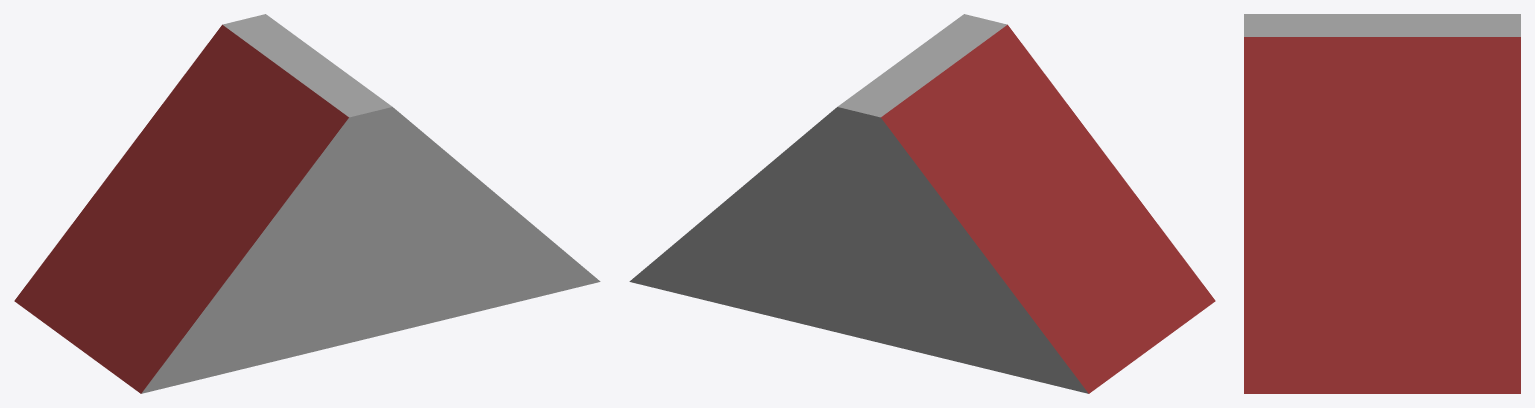
Rendered from Wall.fbx.
The picture shows the model from 3 angles, left to right: view 1: azimuth 30°, elevation 25°; view 2: azimuth 150°, elevation 25°; view 3: azimuth 270°, elevation 25°; orthographic projection. The views are drawn at different scales.
Parts seen in each view (by area): view 1: Wall; view 2: Wall; view 3: Wall.
Part boxes in pixels (x1=…): Wall: x1=14, y1=14, x2=600, y2=393; Wall: x1=629, y1=14, x2=1215, y2=393; Wall: x1=1244, y1=14, x2=1520, y2=393.
Size of the model in its own units: 10.57 by 4.96 by 5.05.
